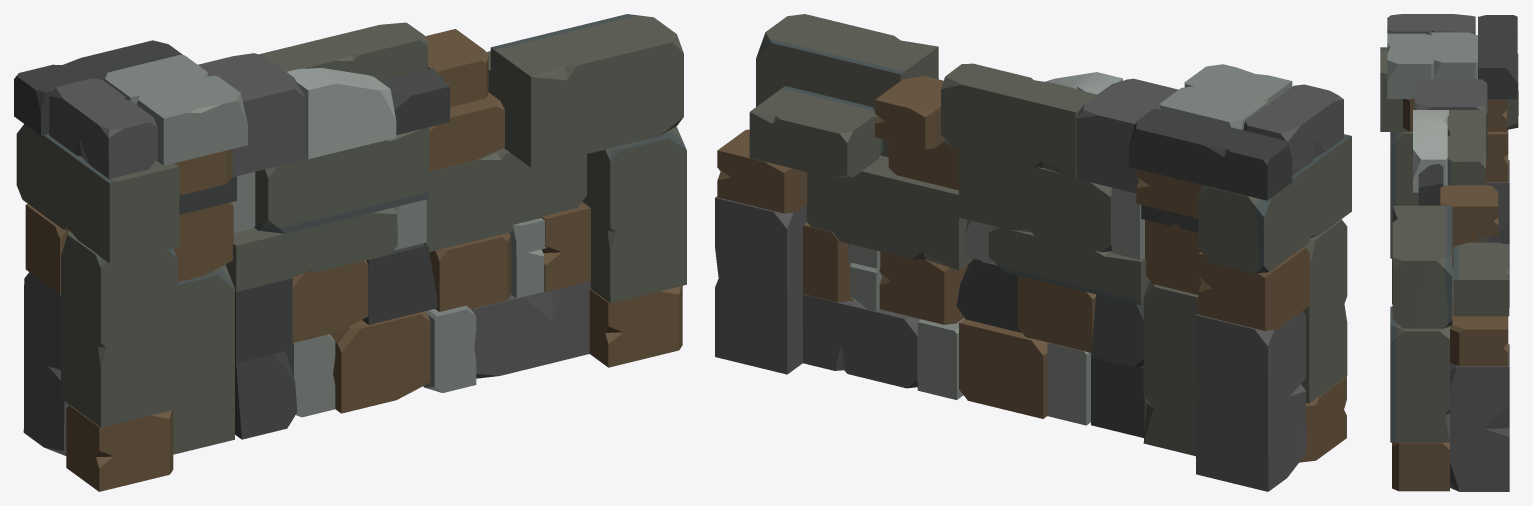
The model's file is ZLP_Build_D_30.FBX.
3 views of the same model, side by side, from view 1: azimuth 30°, elevation 25°; view 2: azimuth 150°, elevation 25°; view 3: azimuth 270°, elevation 25° (orthographic). The views are drawn at different scales.
Visible parts, largest first — view 1: ZLP_Build_D_30; view 2: ZLP_Build_D_30; view 3: ZLP_Build_D_30.
Boxes of the visible parts, box(x1,y1,x2,y2) form: ZLP_Build_D_30: box(14, 14, 686, 491); ZLP_Build_D_30: box(715, 14, 1351, 491); ZLP_Build_D_30: box(1380, 14, 1518, 491).
Bounding box in the file's own units: 324 × 189 × 88.61.
